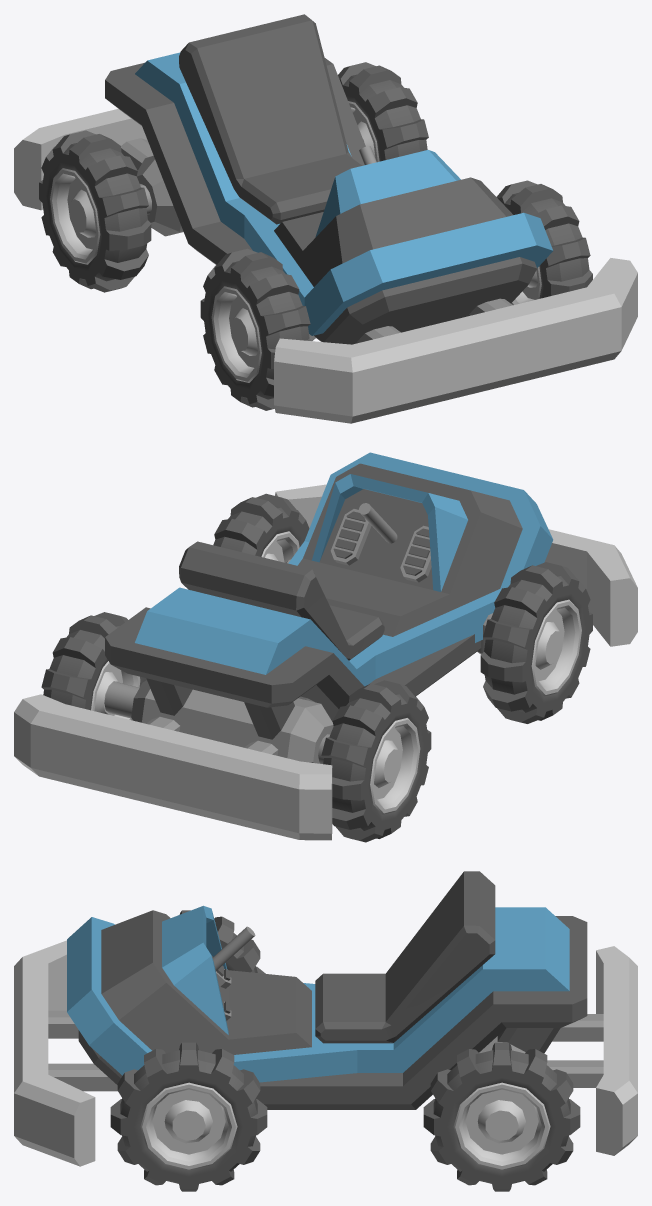
File: complete-kart.obj
The picture shows the model from 3 angles, top to bottom: view 1: azimuth 30°, elevation 25°; view 2: azimuth 150°, elevation 25°; view 3: azimuth 270°, elevation 25°; orthographic projection. The views are drawn at different scales.
Parts seen in each view (by area): view 1: front-bumper, bucket-seat, chassis, body-shell, wheel-rear-right, wheel-front-right, object1, wheel-rear-left, wheel-front-left, front-cowl, rear-bumper, object21 (+1 smaller); view 2: rear-bumper, body-shell, object1, wheel-front-right, wheel-rear-right, chassis, bucket-seat, front-bumper, object21, wheel-rear-left, front-cowl, wheel-front-left (+6 smaller); view 3: body-shell, wheel-front-left, wheel-rear-left, object1, bucket-seat, chassis, front-bumper, rear-bumper, front-cowl, object10, wheel-front-right, object31 (+4 smaller).
Part boxes in pixels (x1,y1,x2,y2): front-bumper: (274,258,637,423); bucket-seat: (179,14,362,224); chassis: (105,58,536,344); body-shell: (135,52,553,335); wheel-rear-right: (39,130,151,292); wheel-front-right: (200,248,311,410); object1: (274,177,513,286); wheel-rear-left: (338,62,428,162); wheel-front-left: (496,180,592,305); front-cowl: (315,150,460,237); rear-bumper: (14,108,147,210); object21: (136,155,183,236); rear-bumper: (14,694,332,840); body-shell: (135,452,553,686); object1: (297,463,522,636); wheel-front-right: (480,562,592,723); wheel-rear-right: (321,680,431,842); chassis: (105,607,481,721); bucket-seat: (179,541,384,660); front-bumper: (275,484,637,646); object21: (131,680,333,763); wheel-rear-left: (41,612,146,720); front-cowl: (311,474,467,591); wheel-front-left: (213,493,309,562); body-shell: (67,907,569,1082); wheel-front-left: (110,1042,267,1191); wheel-rear-left: (423,1042,580,1191); object1: (101,910,311,1054); bucket-seat: (315,871,495,1043); chassis: (78,916,587,1109); front-bumper: (14,940,95,1166); rear-bumper: (596,946,637,1155); front-cowl: (162,905,228,1034); object10: (48,1063,117,1091); wheel-front-right: (179,910,265,973); object31: (547,1060,603,1087).
Size of the model in its own units: 1.43 by 0.8663 by 2.19.
